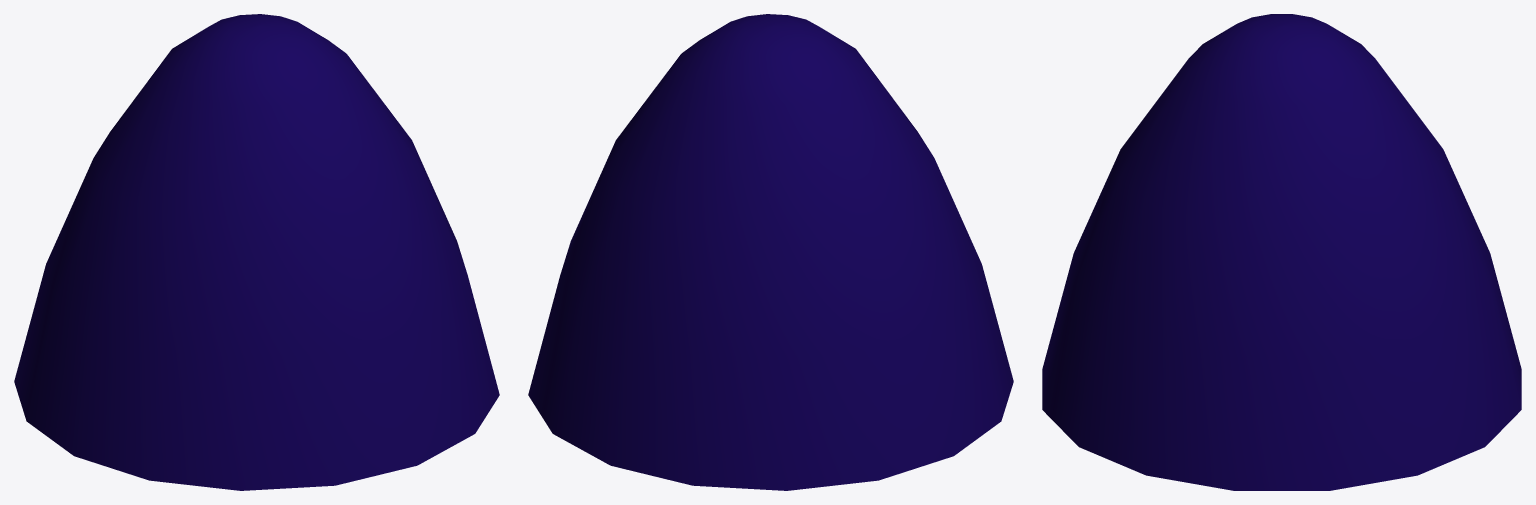
File: Bullet (LP).FBX
The picture shows the model from 3 angles, left to right: view 1: azimuth 30°, elevation 25°; view 2: azimuth 150°, elevation 25°; view 3: azimuth 270°, elevation 25°; orthographic projection.
Visible parts, largest first — view 1: Bullet; view 2: Bullet; view 3: Bullet.
Part boxes in pixels (x1=…): Bullet: x1=14, y1=14, x2=499, y2=490; Bullet: x1=528, y1=14, x2=1013, y2=490; Bullet: x1=1042, y1=14, x2=1521, y2=490.
Size of the model in its own units: 1.1 by 0.9251 by 1.1.
